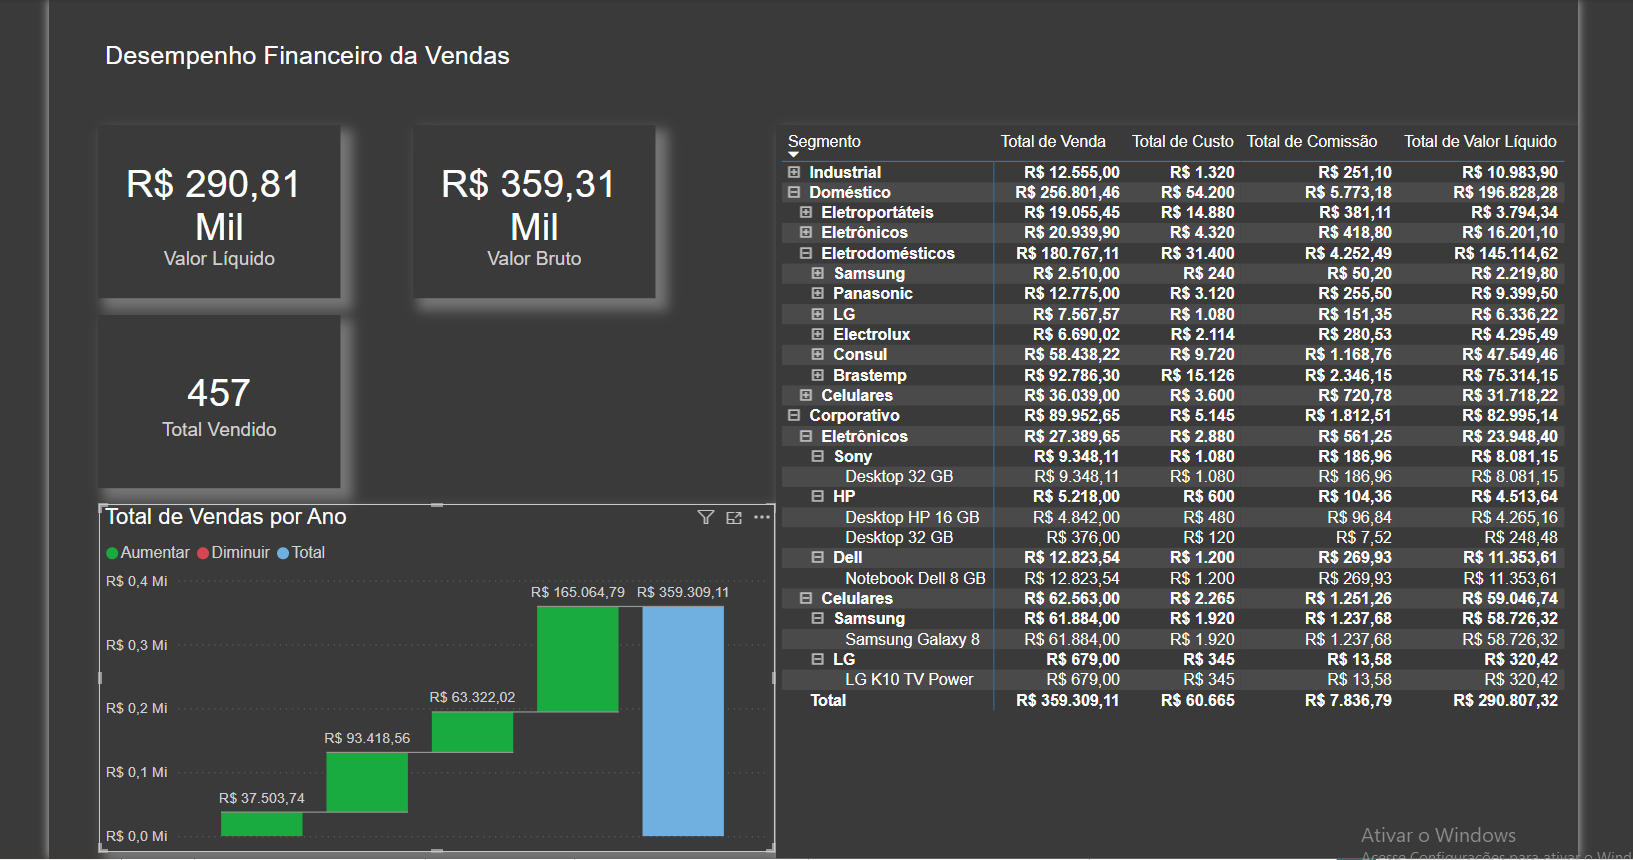

The dashboard page shown, as its layout file describes it:
{"tool":"powerbi","page":{"name":"Desempenho Financeiro da Vendas","canvas":[1280,720],"ordinal":1},"visuals":[{"type":"card","fields":{"Values":["Sum(Vendas.Valor Líquido)"]},"box":[41.1,105.4,203.1,145.2],"z":0},{"type":"waterfallChart","fields":{"Category":["Vendas.Data Venda.Variation.Hierarquia de datas.Ano"],"Y":["Sum(Vendas.ValorVenda)"]},"box":[41.6,423,565.9,291.4],"z":1000},{"type":"pivotTable","title":"Tabela de ","fields":{"Rows":["Vendas.Segmento","Vendas.Categoria","Vendas.Fabricante","Vendas.Produto"],"Values":["Sum(Vendas.ValorVenda)","Sum(Vendas.Custo)","Sum(Vendas.Valor Comissão)","Sum(Vendas.Valor Líquido)"]},"box":[608.6,105.8,671.6,614.2],"z":2000},{"type":"card","fields":{"Values":["Sum(Vendas.ValorVenda)"]},"box":[304.6,105.4,203.1,145.2],"z":5000},{"type":"card","fields":{"Values":["CountNonNull(Vendas.Produto)"]},"box":[41.1,264.7,203.1,145.2],"z":6000},{"type":"textbox","box":[41.6,30.4,360,39.4],"z":6001}]}

Visuals, with their boxes on the page's 1280x720 design canvas (x1, y1, x2, y2). These are canvas units, not pixel positions in the 1633x860 screenshot, which may show the page scaled, cropped or inside an application window:
card - Sum(Vendas.Valor Líquido): pyautogui.locateOnScreen(41, 105, 244, 251)
waterfallChart - Vendas.Data Venda.Variation.Hierarquia de datas.Ano x Sum(Vendas.ValorVenda): pyautogui.locateOnScreen(42, 423, 608, 714)
"Tabela de " pivotTable: pyautogui.locateOnScreen(609, 106, 1280, 720)
card - Sum(Vendas.ValorVenda): pyautogui.locateOnScreen(305, 105, 508, 251)
card - CountNonNull(Vendas.Produto): pyautogui.locateOnScreen(41, 265, 244, 410)
textbox: pyautogui.locateOnScreen(42, 30, 402, 70)
